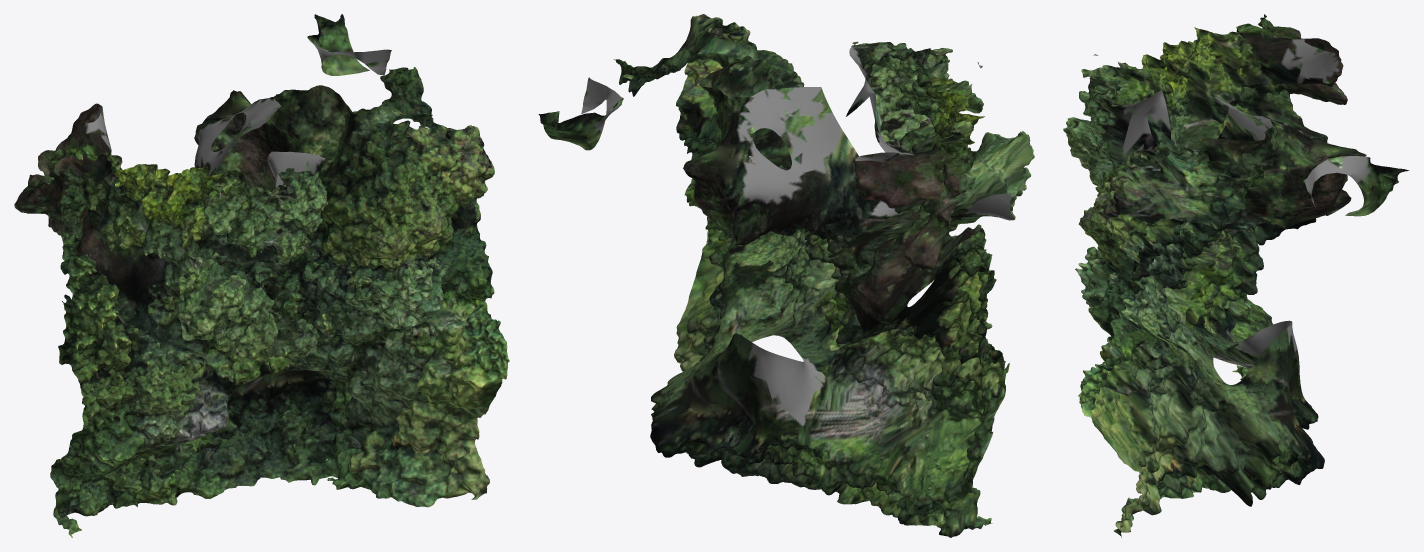
The model's file is Tile_+016_+001.fbx.
The picture shows the model from 3 angles, left to right: view 1: azimuth 30°, elevation 25°; view 2: azimuth 150°, elevation 25°; view 3: azimuth 270°, elevation 25°; orthographic projection. The views are drawn at different scales.
Parts seen in each view (by area): view 1: DefaultName; view 2: DefaultName; view 3: DefaultName.
Part boxes in pixels (<box>): DefaultName: <box>14,14,509,537</box>; DefaultName: <box>538,14,1034,537</box>; DefaultName: <box>1063,14,1409,537</box>.
Bounding box in the file's own units: 22.54 × 22.54 × 19.79.
